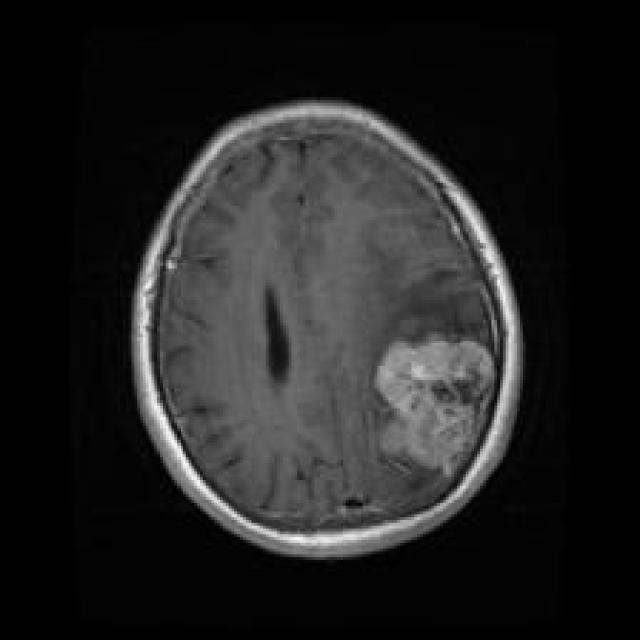meningioma_tumor: (365, 318, 507, 492)
